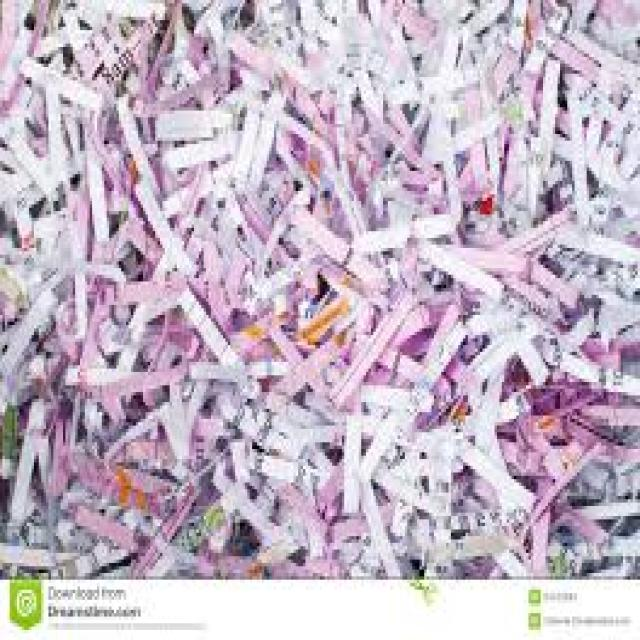paper: (0, 0, 638, 573)
